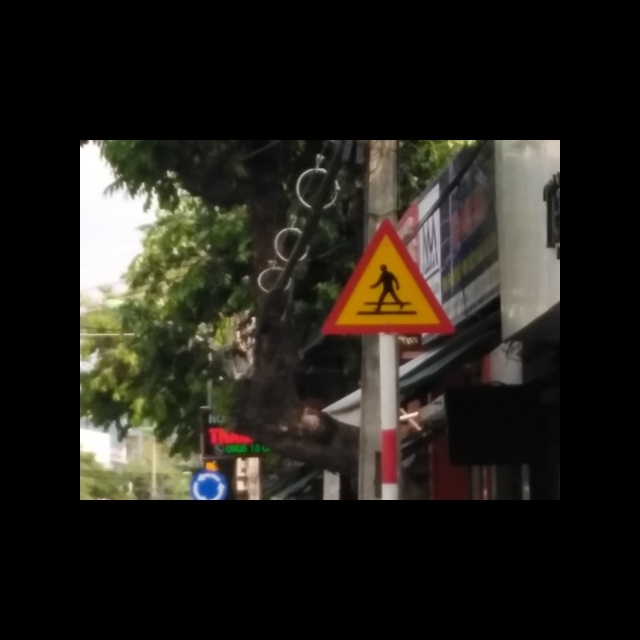Nơi giao nhau chạy theo vòng xuyến: (189, 470, 227, 500)
Đường người đi bộ sang đường: (319, 216, 456, 336)
